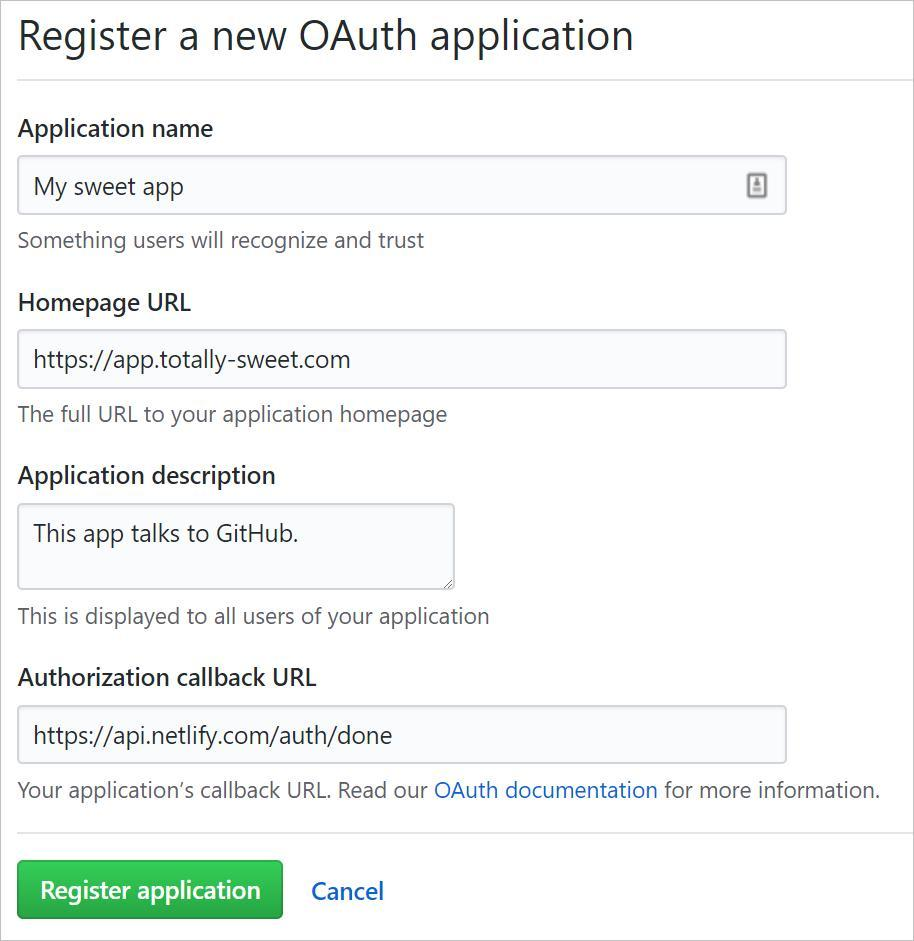button: (18, 859, 284, 920)
icon: (743, 165, 771, 200)
input: (19, 156, 788, 217), (19, 331, 786, 389), (19, 706, 786, 764), (20, 503, 455, 589)
label: (15, 661, 329, 695), (17, 455, 279, 492), (19, 113, 231, 149), (17, 289, 204, 315), (312, 880, 386, 906)
